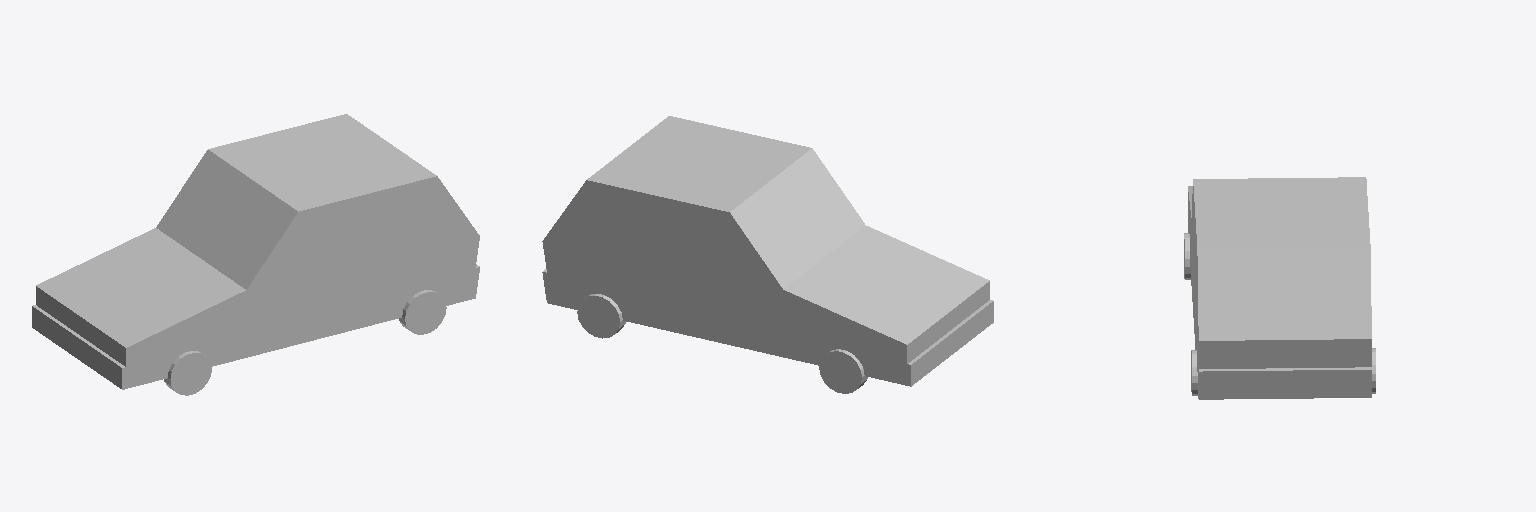
File: car1.obj
3 renders of one model, left to right at view 1: azimuth 30°, elevation 25°; view 2: azimuth 150°, elevation 25°; view 3: azimuth 270°, elevation 25°, orthographic.
Parts seen in each view (by area): view 1: CAR_03 Cars City; view 2: CAR_03 Cars City; view 3: CAR_03 Cars City.
Part boxes in pixels (left/top/right/bottom): CAR_03 Cars City: left=32, top=114, right=479, bottom=395; CAR_03 Cars City: left=542, top=116, right=993, bottom=393; CAR_03 Cars City: left=1184, top=177, right=1375, bottom=399.
Size of the model in its own units: 152 by 60.23 by 68.82.